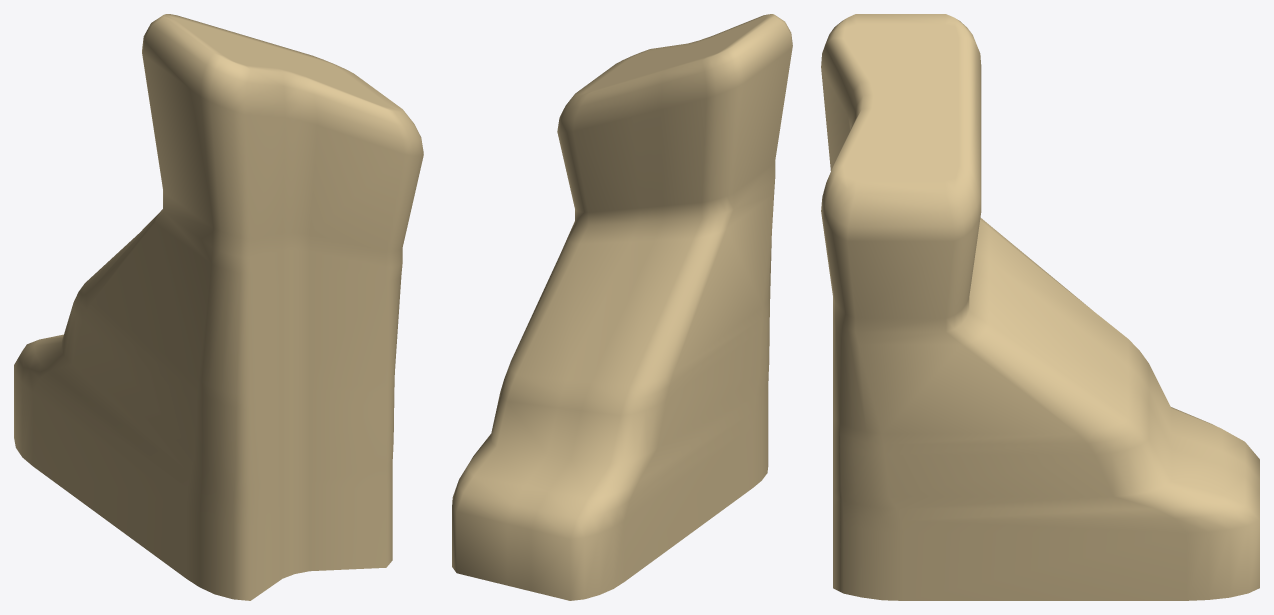
File: Rock07_MESH.FBX
3 renders of one model, left to right at view 1: azimuth 30°, elevation 25°; view 2: azimuth 150°, elevation 25°; view 3: azimuth 270°, elevation 25°, orthographic. The views are drawn at different scales.
Parts seen in each view (by area): view 1: Rock06_low; view 2: Rock06_low; view 3: Rock06_low.
Boxes of the visible parts, x1,y1,x2,y2 form: Rock06_low: (14, 14, 423, 600); Rock06_low: (452, 14, 792, 600); Rock06_low: (821, 14, 1259, 600).
Bounding box in the file's own units: 93.22 × 218 × 173.
